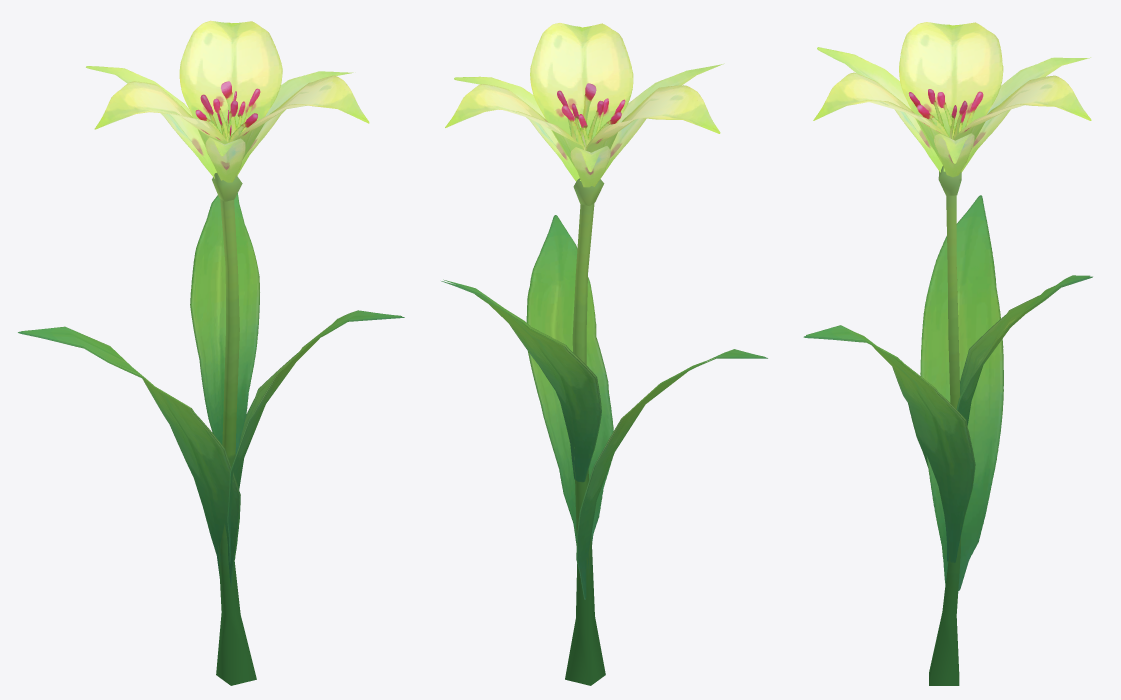
File: greenFlower.glb
3 renders of one model, left to right at view 1: azimuth 30°, elevation 25°; view 2: azimuth 150°, elevation 25°; view 3: azimuth 270°, elevation 25°, orthographic.
Visible parts, largest first — view 1: Cecilia_Vo; view 2: Cecilia_Vo; view 3: Cecilia_Vo.
Boxes of the visible parts, left/top/right/bottom form: Cecilia_Vo: left=18, top=20, right=404, bottom=685; Cecilia_Vo: left=441, top=23, right=767, bottom=685; Cecilia_Vo: left=803, top=22, right=1092, bottom=685.
Bounding box in the file's own units: 0.4249 × 0.7511 × 0.3356.
Materials: 1 (1 with a texture image).
